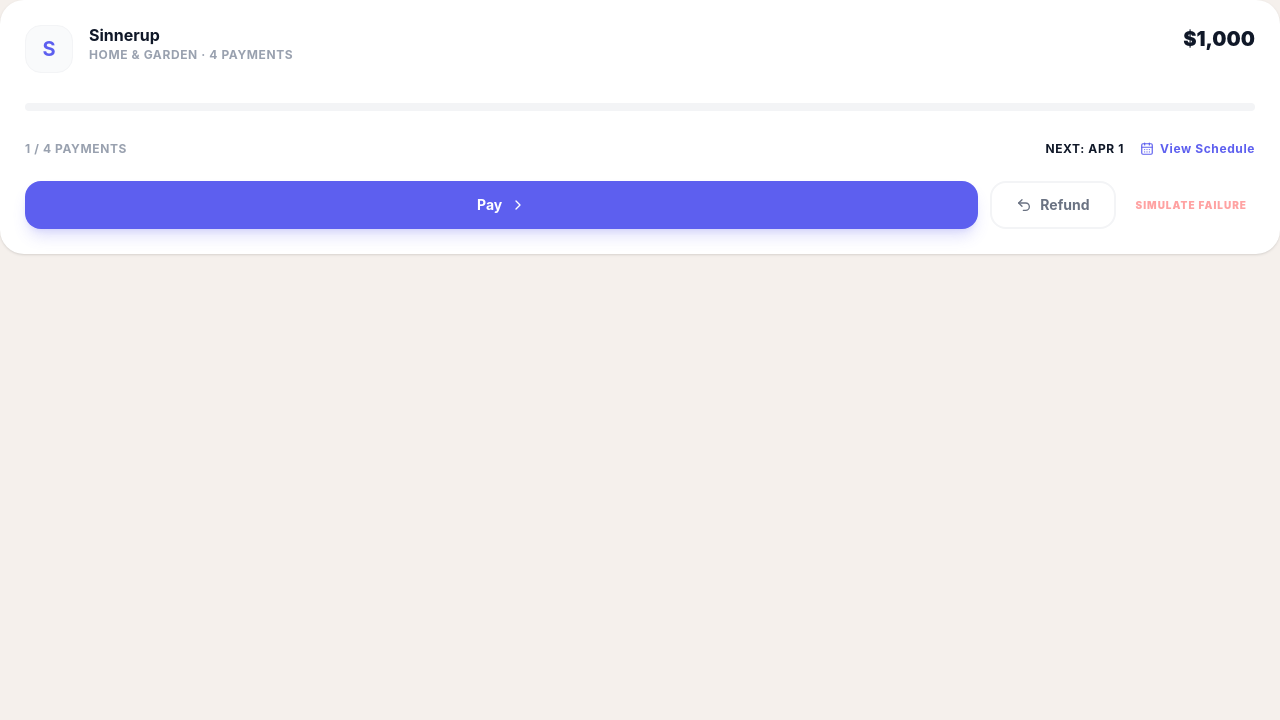
it: OrderCard Component › toggles the payment schedule visibility
// Click to show
Click the button with test id "toggle-schedule-btn" at (1198, 149), box [1140,141,1255,157]
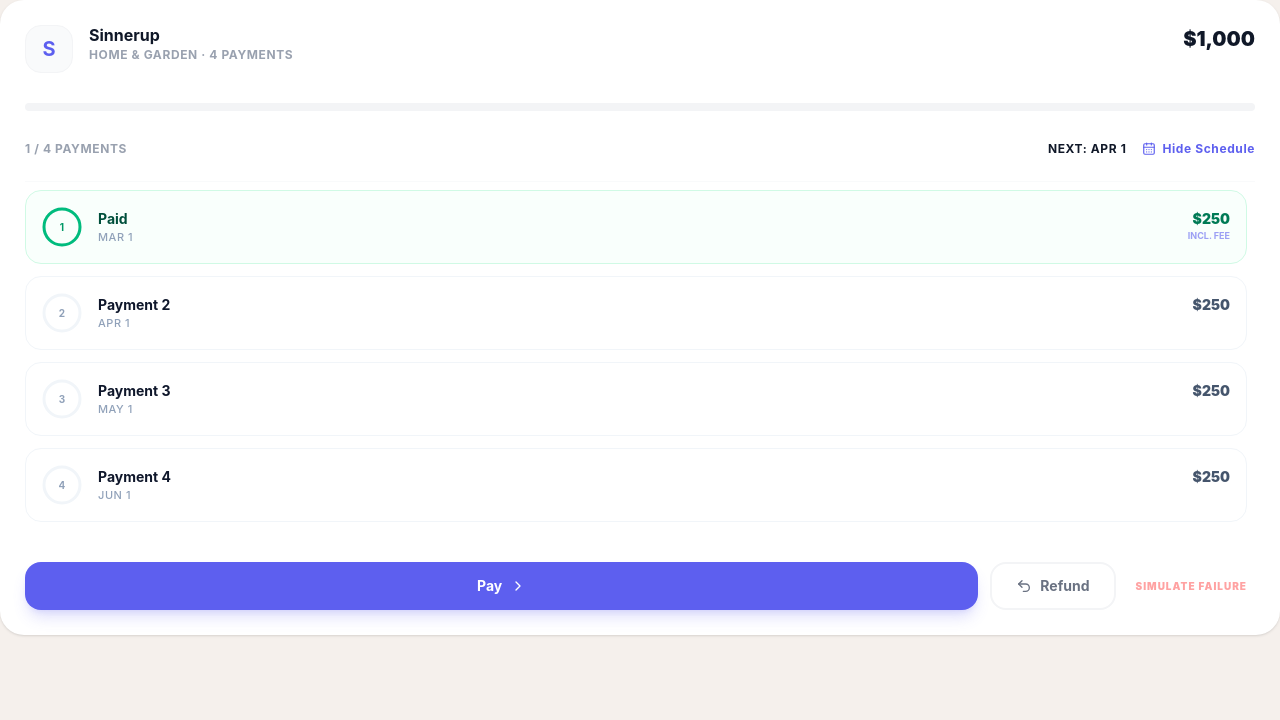
Expected: the button with test id "toggle-schedule-btn" reads "Hide Schedule"
Expected: the element with test id "timeline-card-0" is shown, [25,190,1247,264]
// Click to hide
Click the button with test id "toggle-schedule-btn" at (1199, 149), box [1142,141,1255,157]
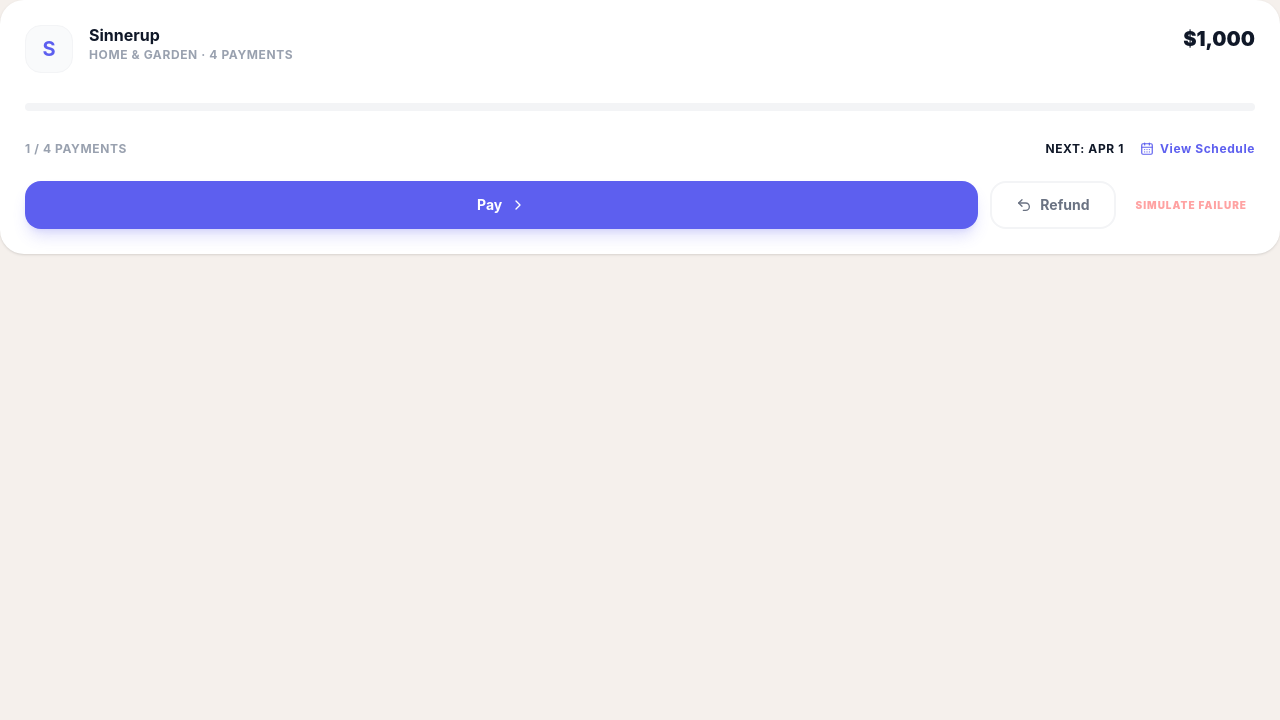
Expected: the button with test id "toggle-schedule-btn" reads "View Schedule", [1140,141,1255,157]
Expected: the element with test id "timeline-card-0" is gone
